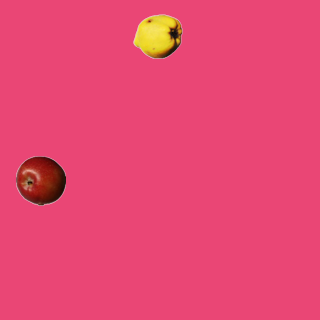Apple Braeburn: (15, 155, 65, 205)
Quince: (132, 11, 182, 61)
